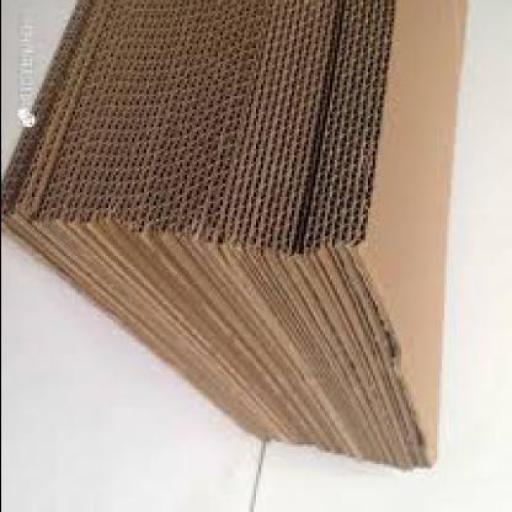cardboard: (2, 3, 469, 470), (353, 2, 462, 468)
